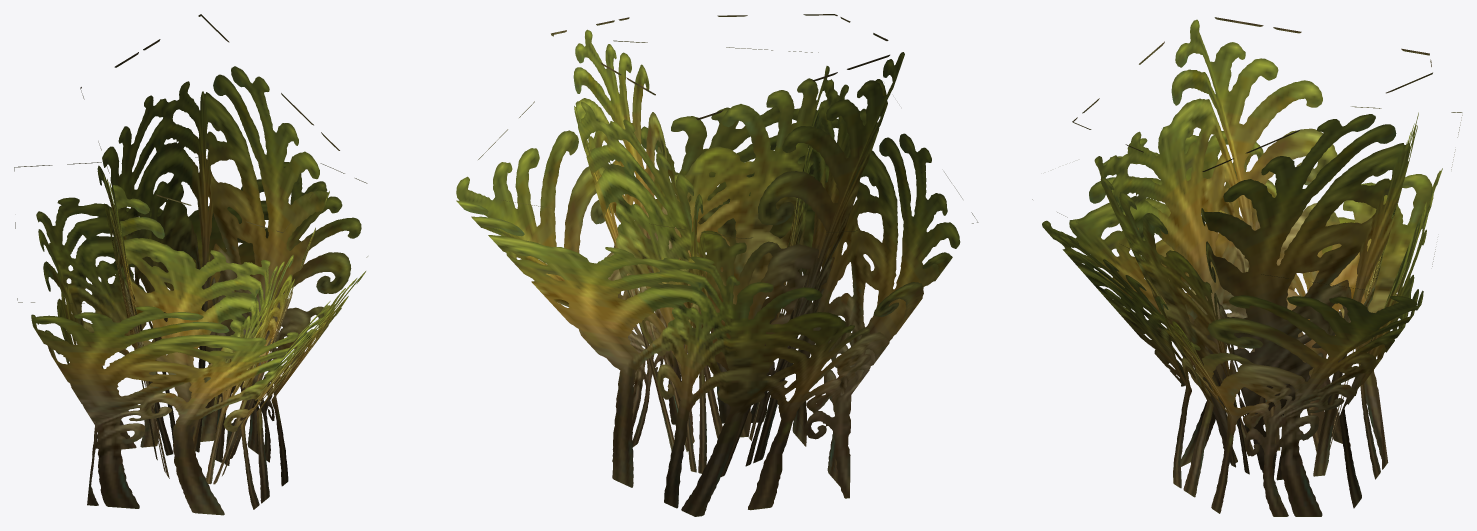
File: wetlandshrub02.obj
3 renders of one model, left to right at view 1: azimuth 30°, elevation 25°; view 2: azimuth 150°, elevation 25°; view 3: azimuth 270°, elevation 25°, orthographic. The views are drawn at different scales.
Visible parts, largest first — view 1: WETLANDSHRUB020; view 2: WETLANDSHRUB020; view 3: WETLANDSHRUB020.
Boxes of the visible parts, x1,y1,x2,y2 form: WETLANDSHRUB020: (14, 14, 367, 515); WETLANDSHRUB020: (456, 14, 978, 516); WETLANDSHRUB020: (1032, 17, 1462, 516).
Size of the model in its own units: 2.15 by 2.25 by 2.08.
Materials: 1 (1 with a texture image).
